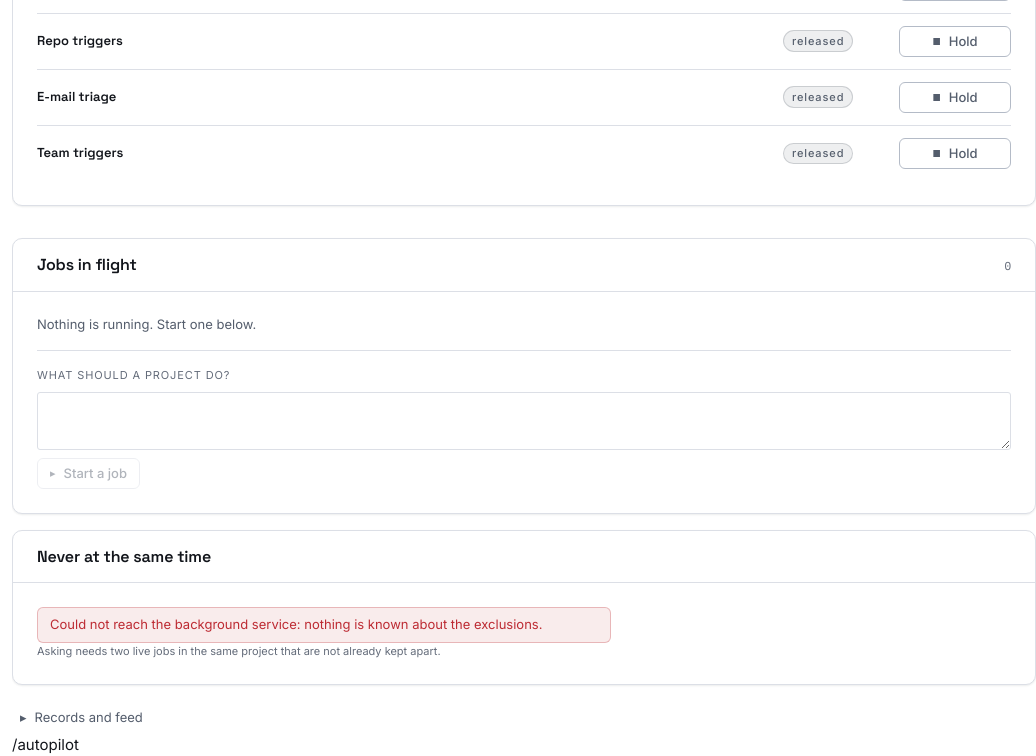
Scenario: Autopilot - the overnight and barrier records › shows the records as panels once there are rows, and one line while there are none
(page scrolled)
Click the button "Records and feed": (81, 717) [12,701,151,733]
(page scrolled)
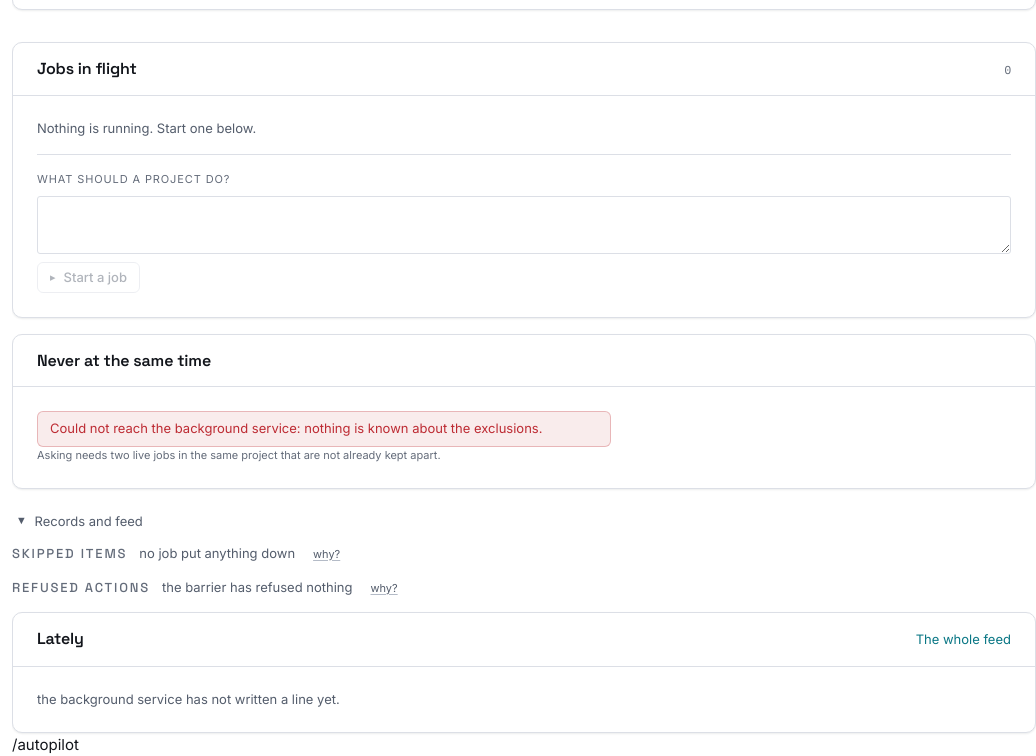
Expected: the text "no job put anything down" is shown, [139,545,295,562]
Expected: the text "the barrier has refused nothing" is shown, [162,578,352,596]
